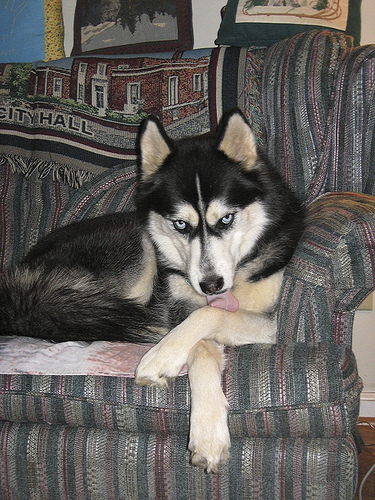dog: (0, 117, 291, 475)
